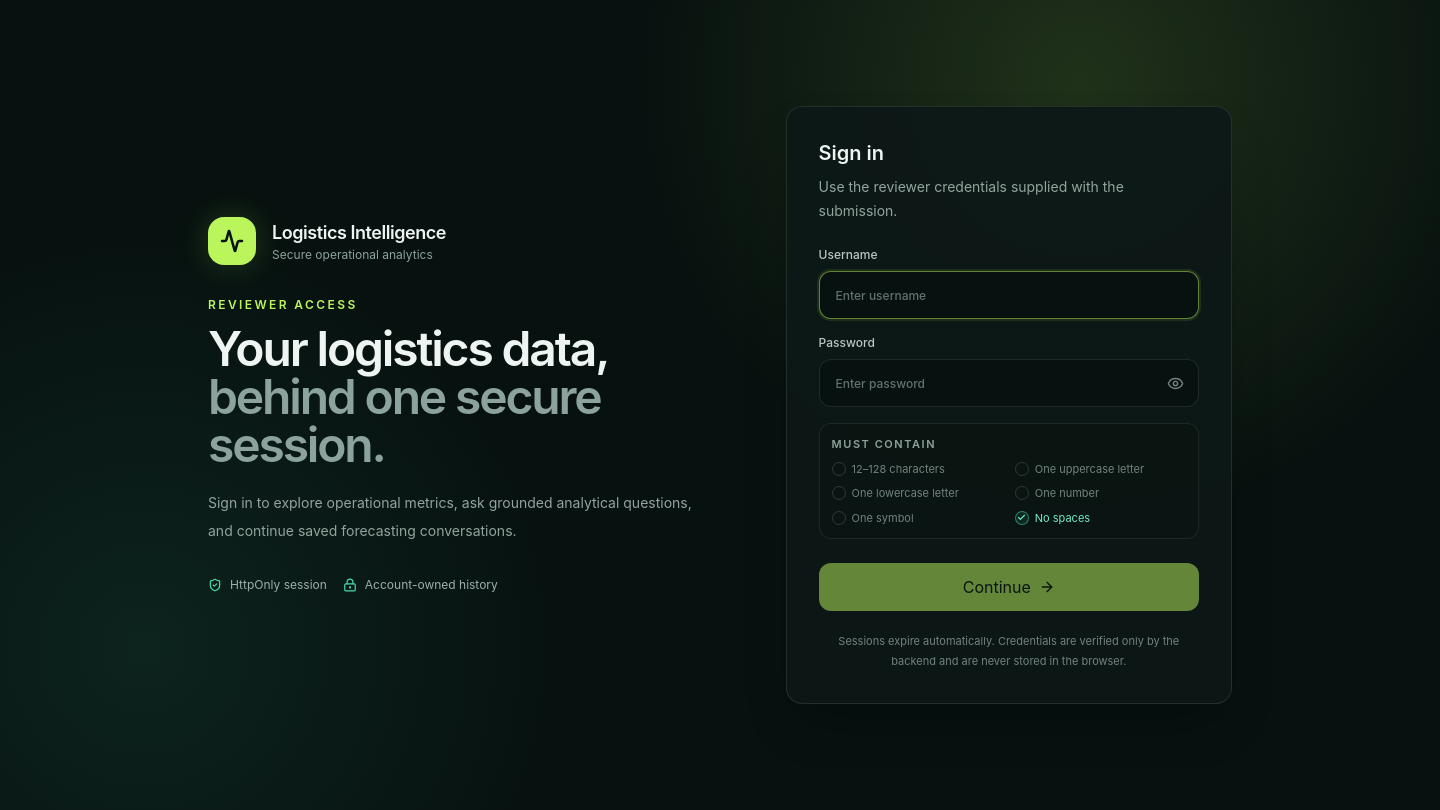
LoginScreen › toggles password visibility without changing its value
Type "Correct-Password9!" into the password field labelled "Password" at (1009,383), box [819,359,1199,407]
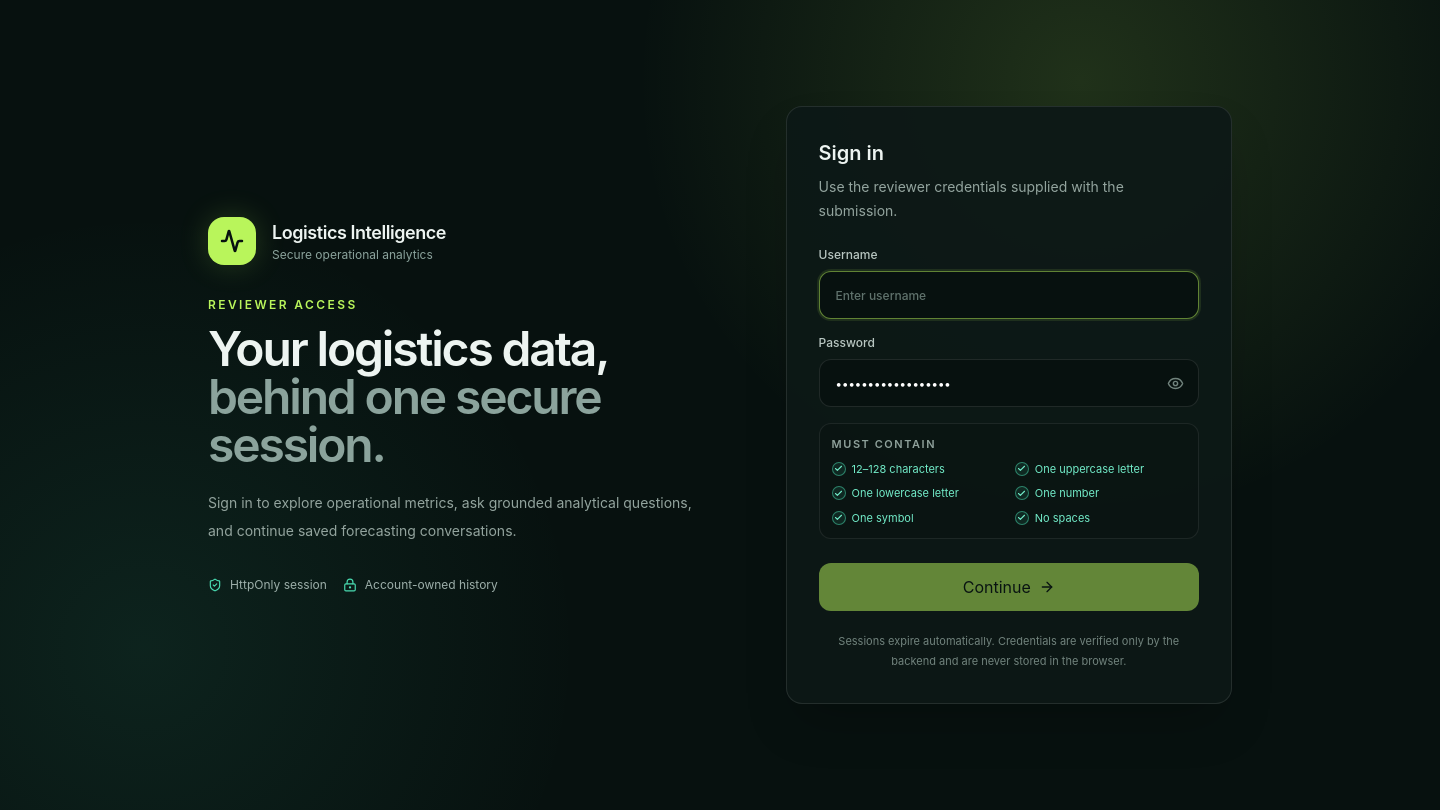
Click the button named "Show password" at (1175,383), box [1151,359,1199,407]
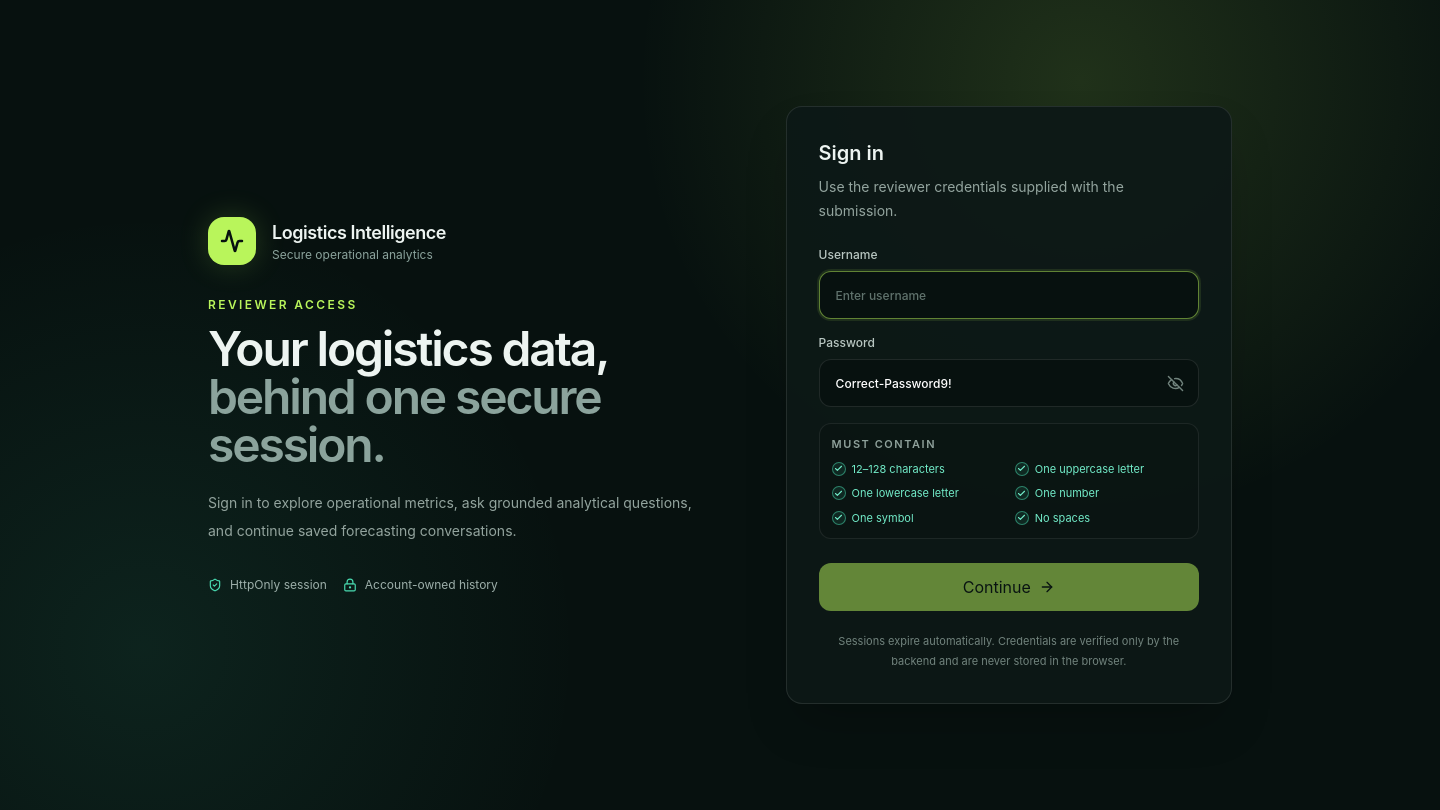
Now the field labelled "Password" shows its text, box [819,359,1199,407]
Click the button named "Hide password" at (1175,383), box [1151,359,1199,407]
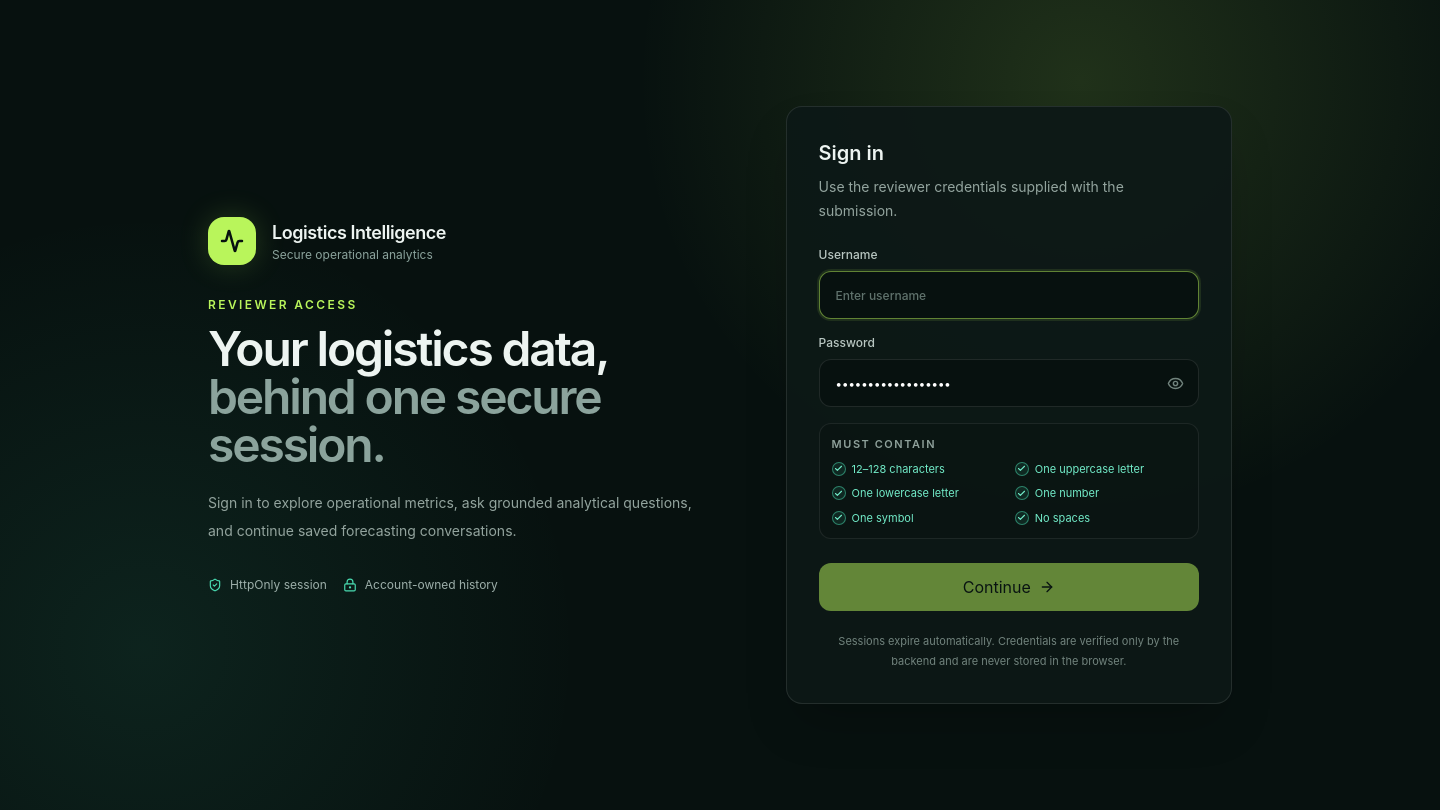
Now the password field labelled "Password" hides its text, box [819,359,1199,407]
